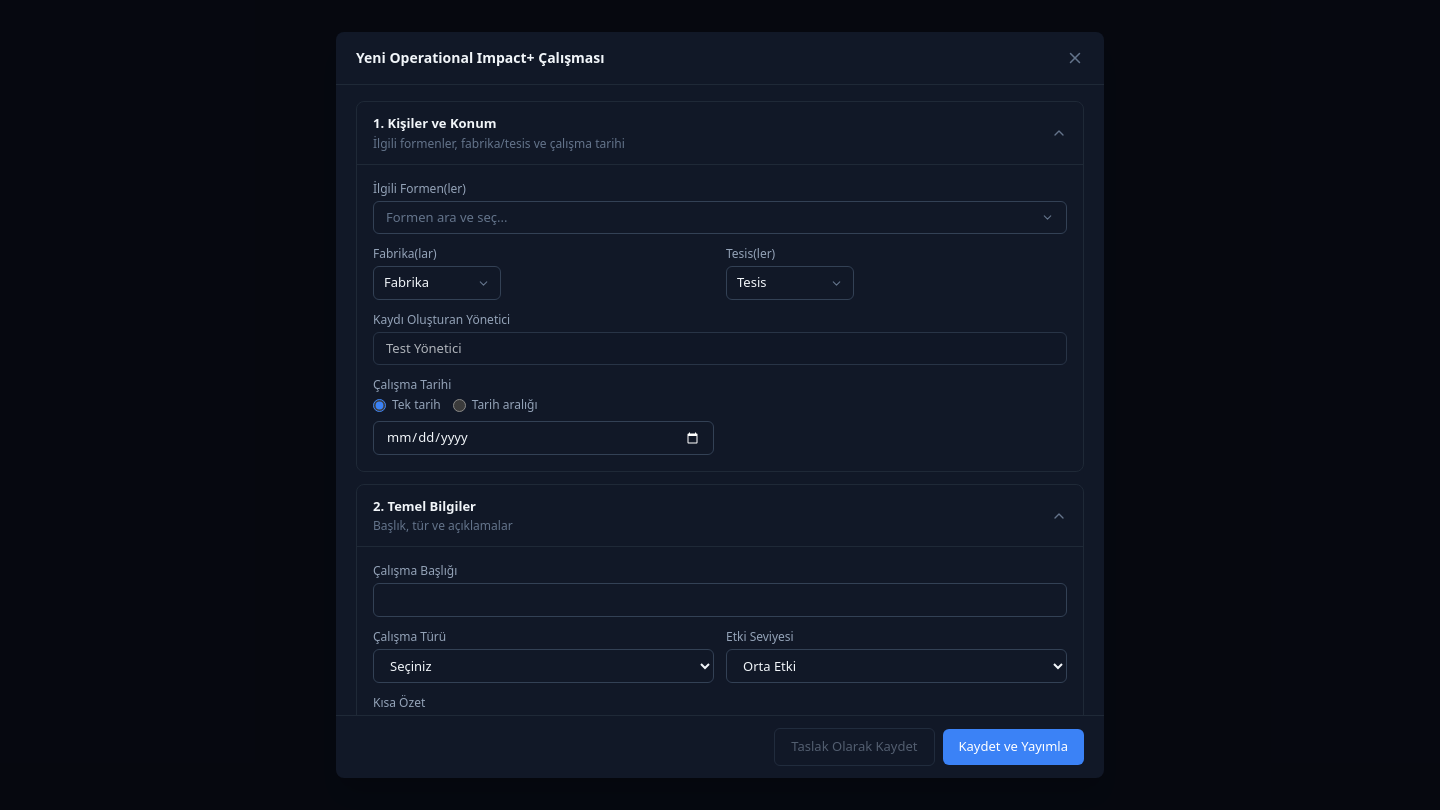
ContributionWorkForm › shows a generic error message for a non-validation failure
Type "x" into the field labelled "Çalışma Başlığı" at x=720, y=600, box [373,583,1067,617]
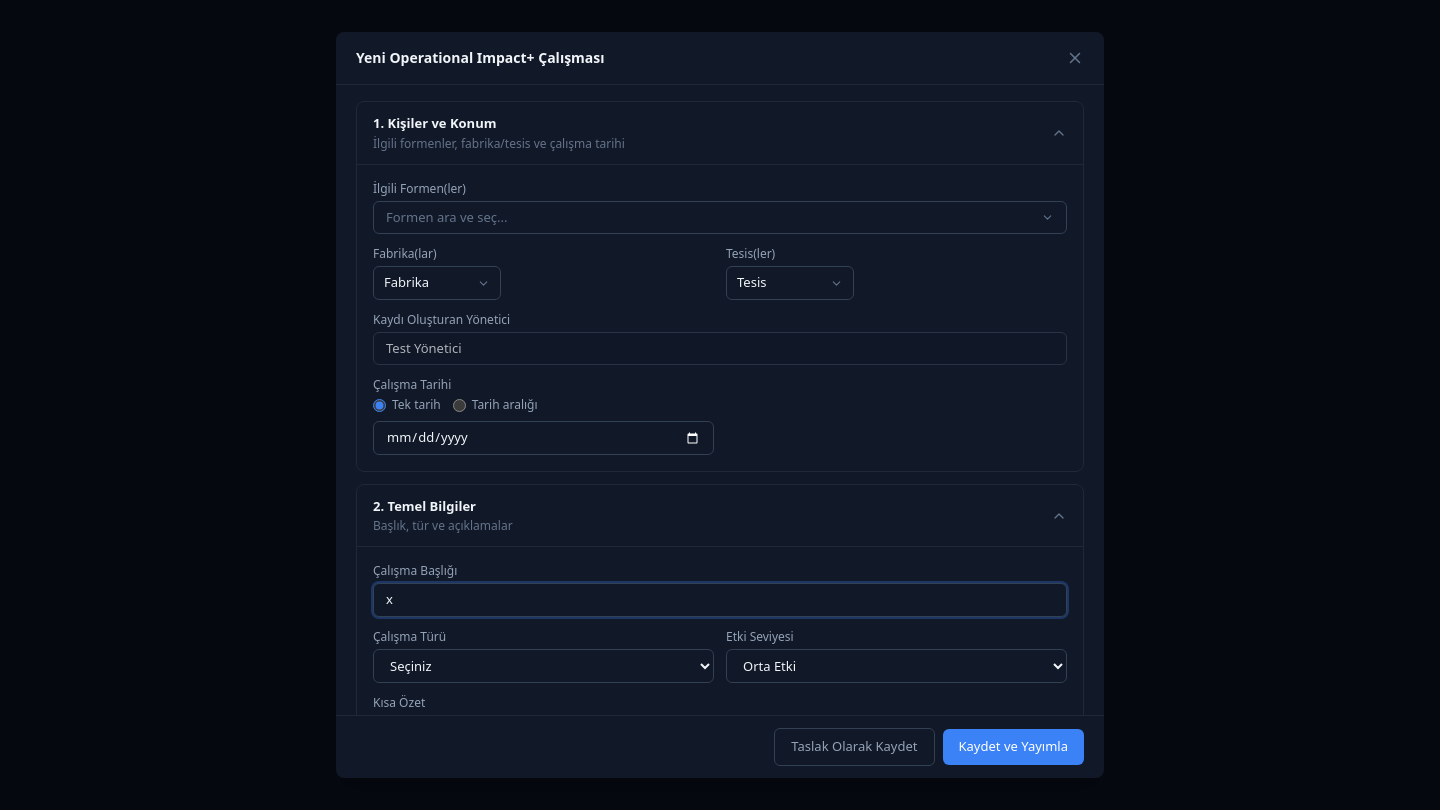
Click the button "Kaydet ve Yayımla" at x=1013, y=747, box [942,729,1084,765]
(page scrolled)
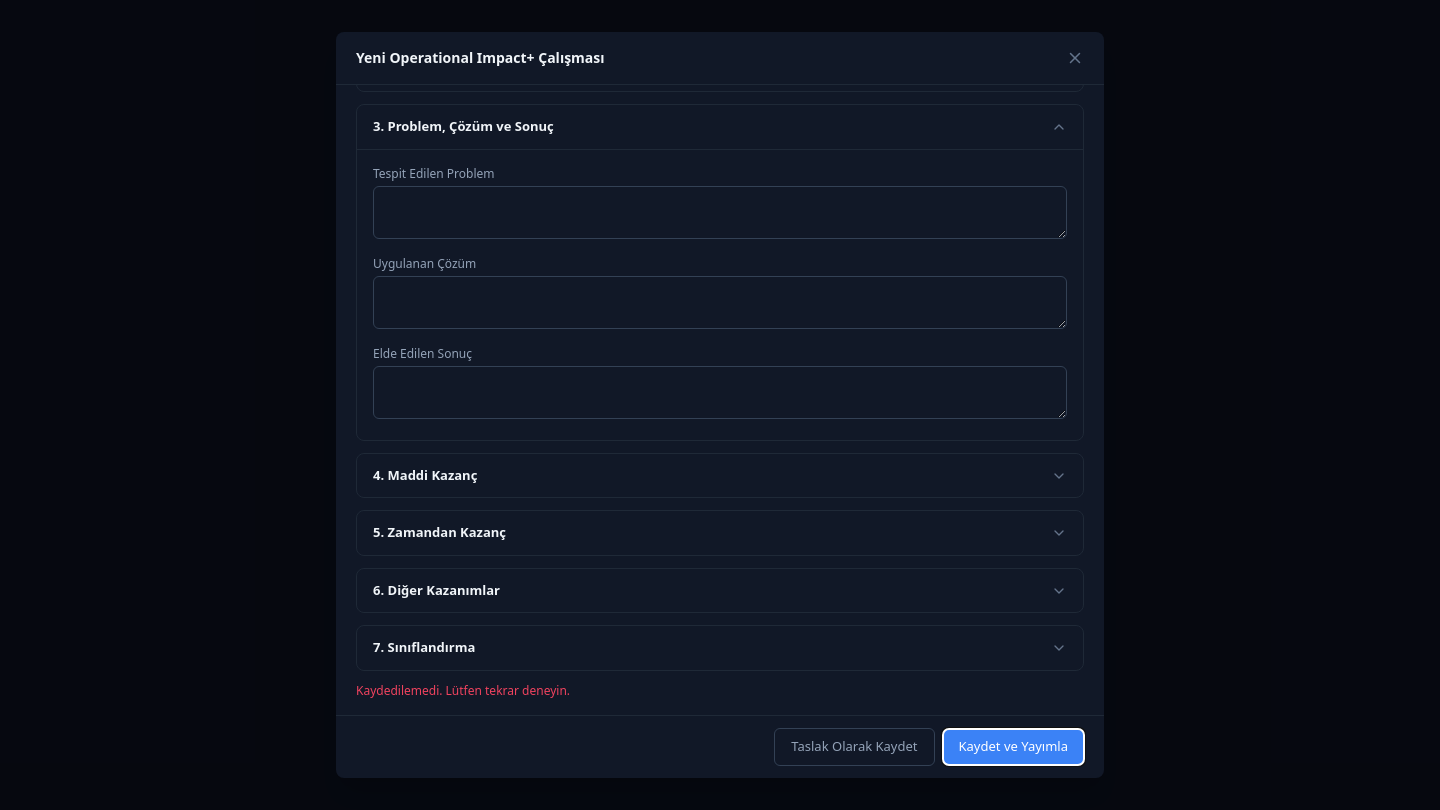
Expected: the text "Kaydedilemedi. Lütfen tekrar deneyin." is shown, [356,682,570,699]
